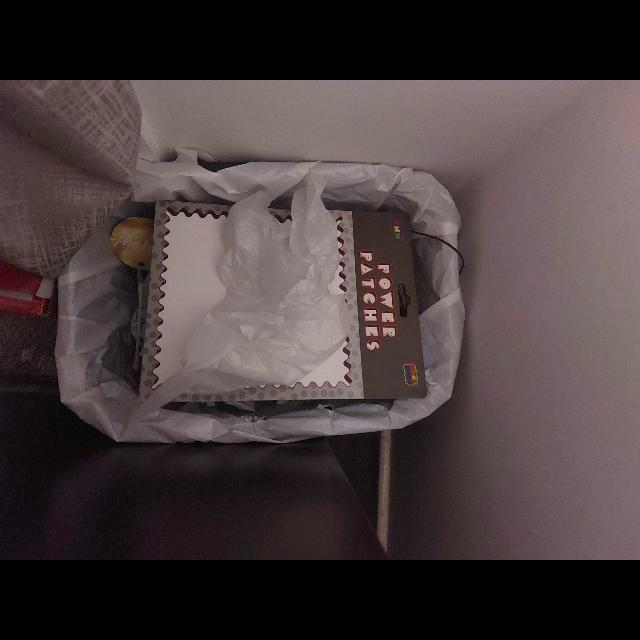cardboard: (171, 211, 426, 403), (138, 201, 230, 403)
paper: (181, 171, 350, 388)
